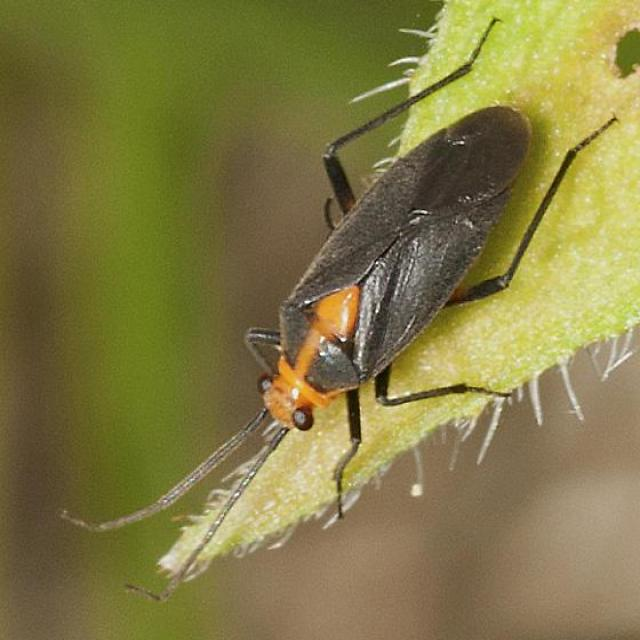Miridae-Adult-: (73, 17, 624, 579)
